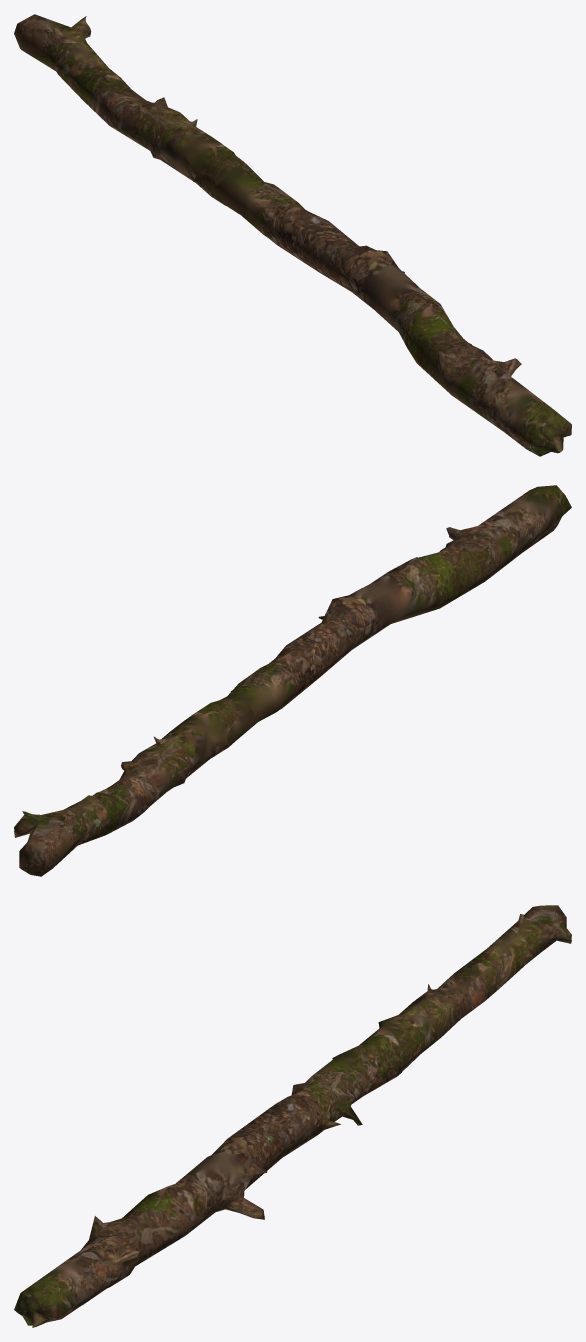
Rendered from Tree_hurdel.fbx.
3 views of the same model, one above another, from view 1: azimuth 30°, elevation 25°; view 2: azimuth 150°, elevation 25°; view 3: azimuth 330°, elevation 25° (orthographic). The views are drawn at different scales.
Parts seen in each view (by area): view 1: tree_log_LOD3:tree_log_LOD3_0; view 2: tree_log_LOD3:tree_log_LOD3_0; view 3: tree_log_LOD3:tree_log_LOD3_0.
Part boxes in pixels (x1,y1,x2,y2): tree_log_LOD3:tree_log_LOD3_0: (14, 14, 571, 456); tree_log_LOD3:tree_log_LOD3_0: (14, 485, 571, 876); tree_log_LOD3:tree_log_LOD3_0: (14, 905, 571, 1327).
Bounding box in the file's own units: 0.4206 × 0.309 × 4.35.
1 material, 1 textured.
